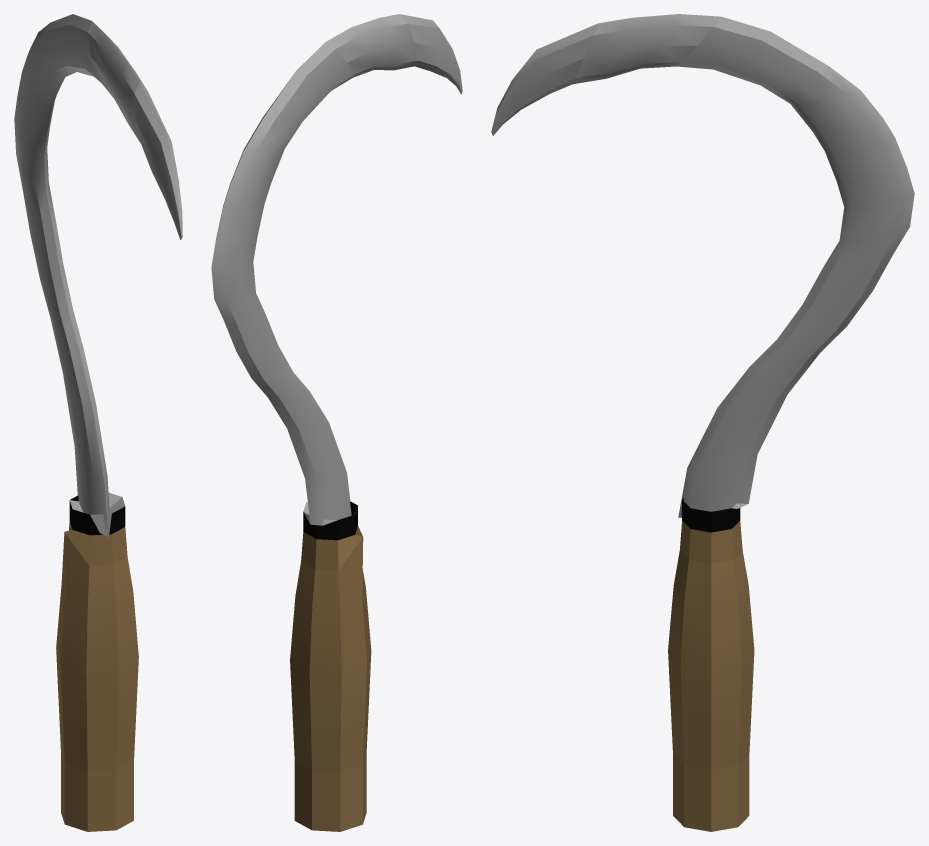
Rendered from hoz.fbx.
3 renders of one model, left to right at view 1: azimuth 30°, elevation 25°; view 2: azimuth 150°, elevation 25°; view 3: azimuth 270°, elevation 25°, orthographic. The views are drawn at different scales.
Parts seen in each view (by area): view 1: Hoz; view 2: Hoz; view 3: Hoz.
Part boxes in pixels (x1,y1,x2,y2): Hoz: [14, 14, 182, 831]; Hoz: [211, 14, 462, 831]; Hoz: [491, 14, 914, 831].
Size of the model in its own units: 1.84 by 18.82 by 9.03.
